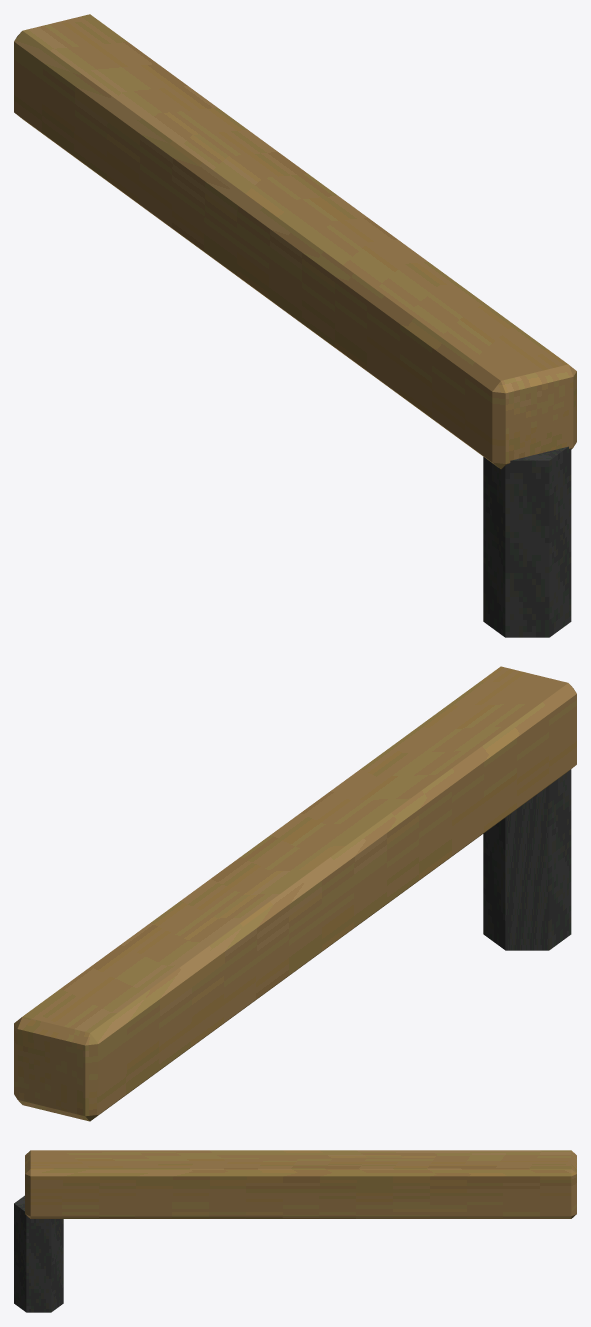
The model's file is register_stylus.glb.
3 renders of one model, top to bottom at view 1: azimuth 30°, elevation 25°; view 2: azimuth 150°, elevation 25°; view 3: azimuth 270°, elevation 25°, orthographic. The views are drawn at different scales.
Visible parts, largest first — view 1: register_stylus; view 2: register_stylus; view 3: register_stylus.
Boxes of the visible parts, box(x1,y1,x2,y2) form: register_stylus: box(14, 14, 576, 637); register_stylus: box(14, 666, 576, 1121); register_stylus: box(14, 1150, 576, 1312).
Size of the model in its own units: 0.004 by 0.0115 by 0.0408.
2 materials, 2 textured.
